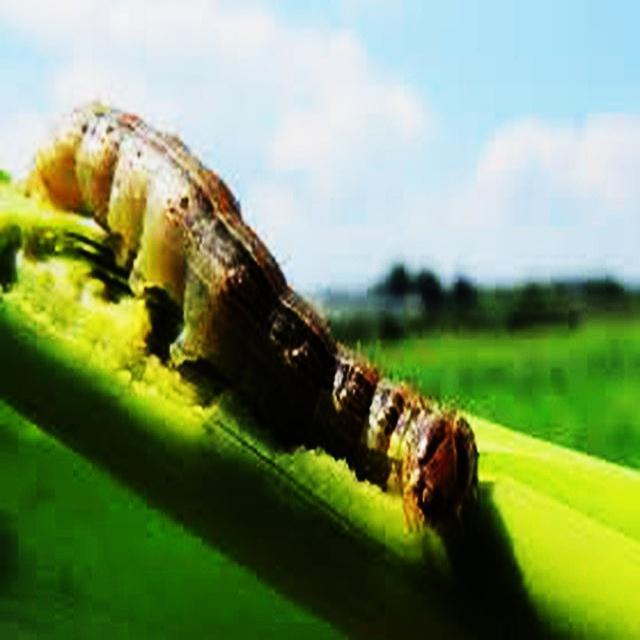gusano_cogollero: (18, 90, 484, 534)
